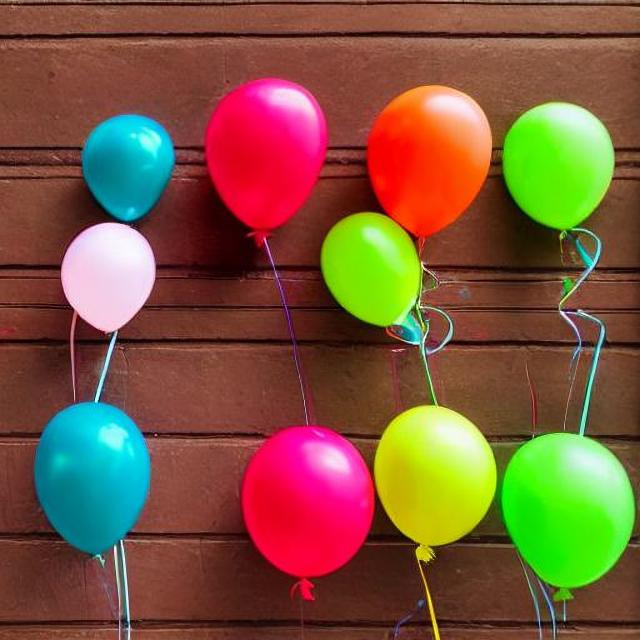balloon: (487, 430, 632, 614), (230, 422, 382, 594), (364, 399, 498, 573), (27, 397, 152, 569), (376, 97, 504, 247), (42, 217, 193, 343), (213, 84, 326, 241), (304, 221, 436, 354), (495, 98, 611, 242), (70, 110, 180, 232)
